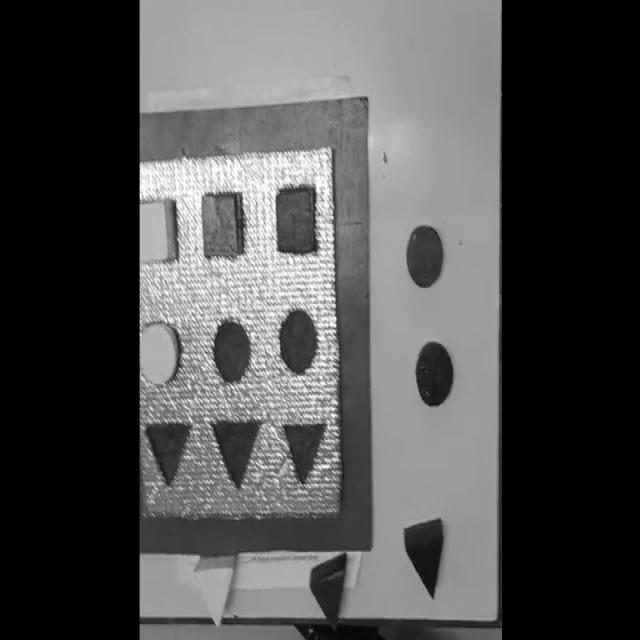bcircle: (416, 341, 454, 409)
bcube: (275, 186, 316, 255)
btriangle: (403, 516, 445, 600)
mtcircle: (278, 307, 318, 375), (212, 316, 252, 384)
mttriangle: (211, 418, 262, 492), (145, 421, 191, 489), (282, 421, 326, 488)
rcircle: (406, 224, 443, 290)
rcube: (201, 191, 242, 259)
rtriangle: (309, 552, 347, 629)
wb: (140, 142, 344, 522)
ycircle: (139, 318, 181, 388)
ycube: (139, 201, 178, 265)
ytriangle: (193, 553, 238, 626)
